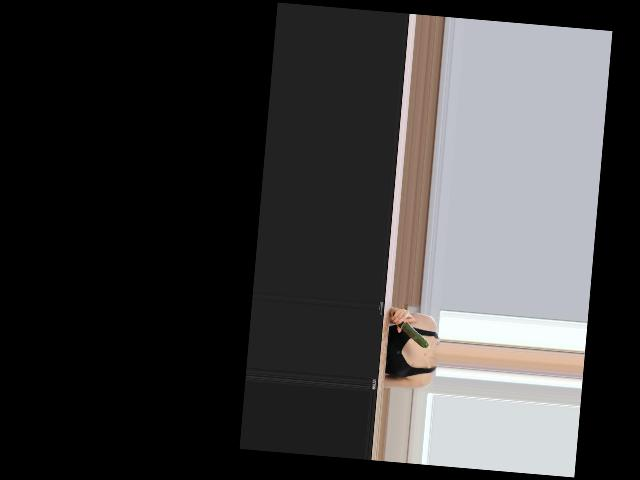cucumber: (389, 311, 432, 348)
